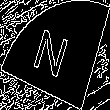N_S: (33, 24, 77, 86)
